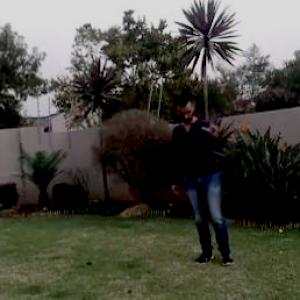land_hand: (202, 108, 226, 140)
